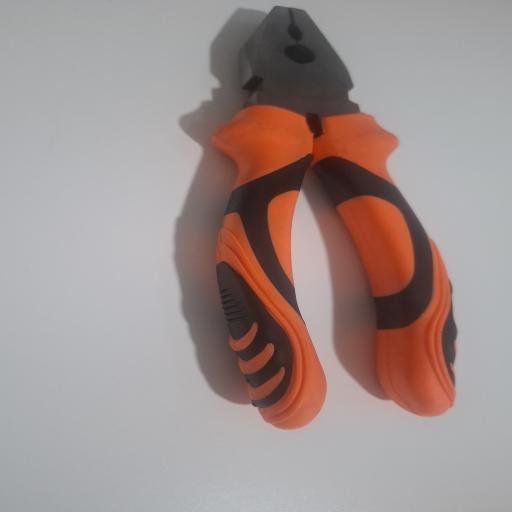alicate: (206, 6, 462, 432)
